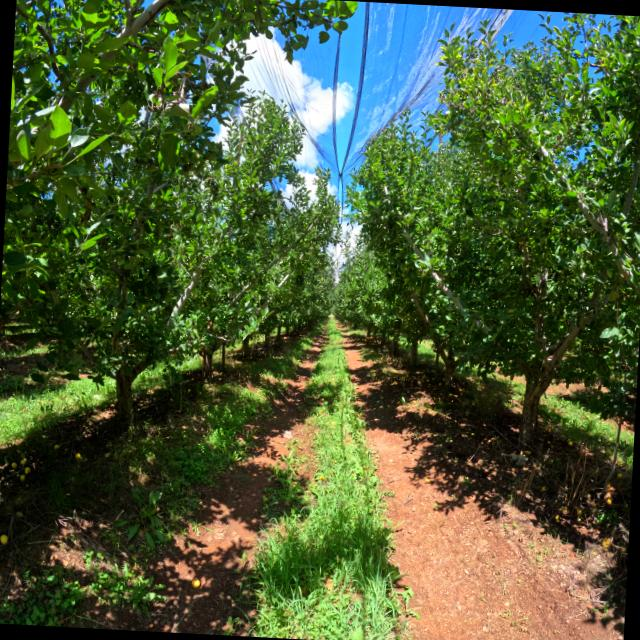-FireBlight-: (203, 318, 214, 330)
